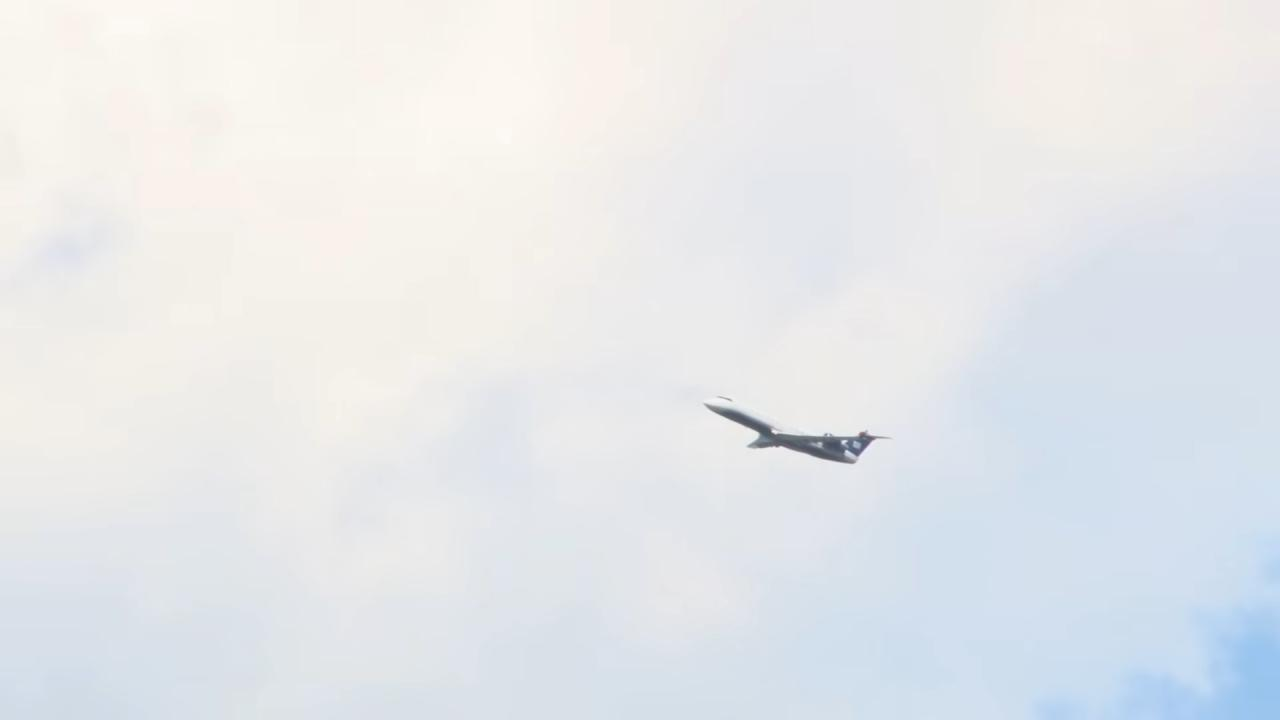Airplane: (691, 378, 901, 480)
